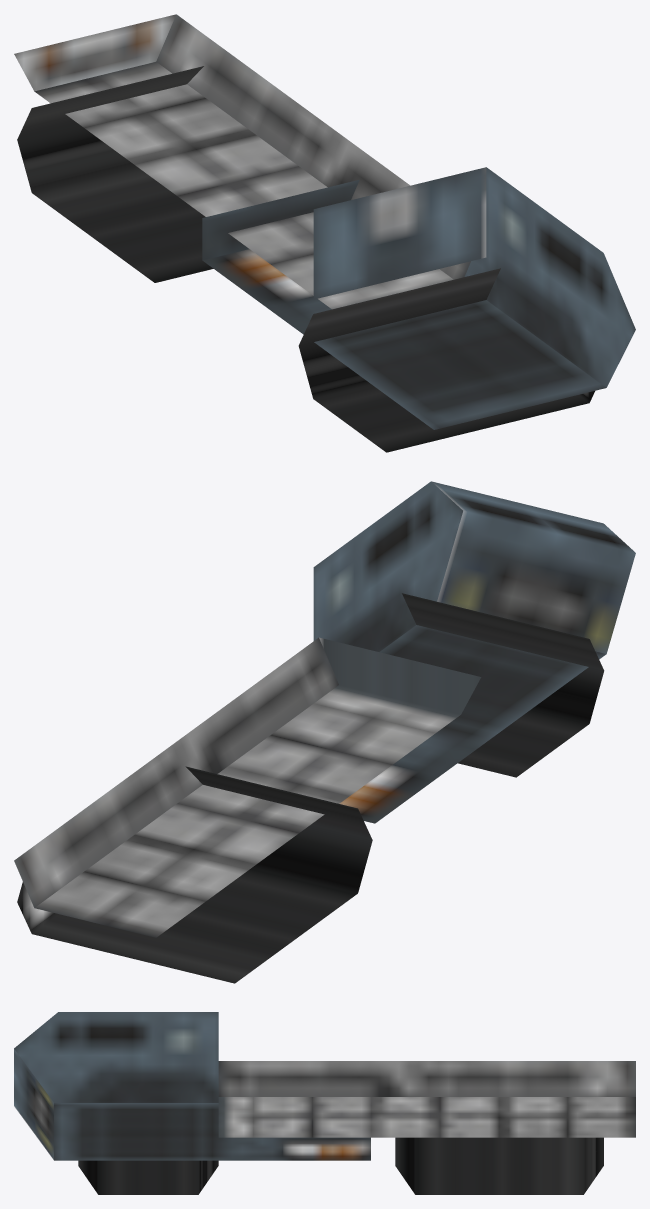
The model's file is truckprop.glb.
The picture shows the model from 3 angles, top to bottom: view 1: azimuth 30°, elevation 25°; view 2: azimuth 150°, elevation 25°; view 3: azimuth 270°, elevation 25°; orthographic projection. The views are drawn at different scales.
Parts seen in each view (by area): view 1: emptytruck; view 2: emptytruck; view 3: emptytruck.
Part boxes in pixels (left/top/right/bottom): emptytruck: left=14, top=14, right=635, bottom=452; emptytruck: left=14, top=481, right=635, bottom=983; emptytruck: left=14, top=1012, right=635, bottom=1194.
Size of the model in its own units: 3 by 2.47 by 11.62.
Materials: 1 (1 with a texture image).
